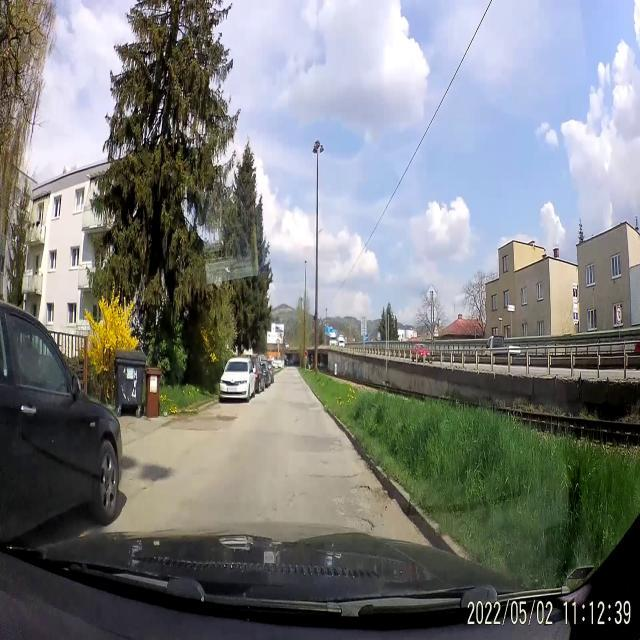Pothole: (342, 480, 397, 534)
